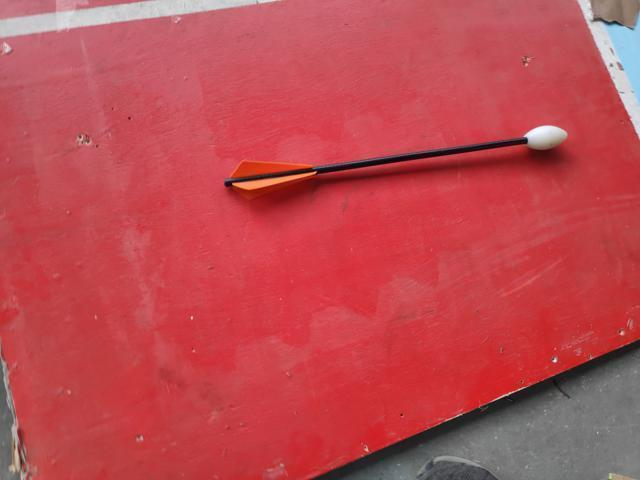Head: (522, 121, 570, 154)
Tail: (222, 155, 318, 202)
